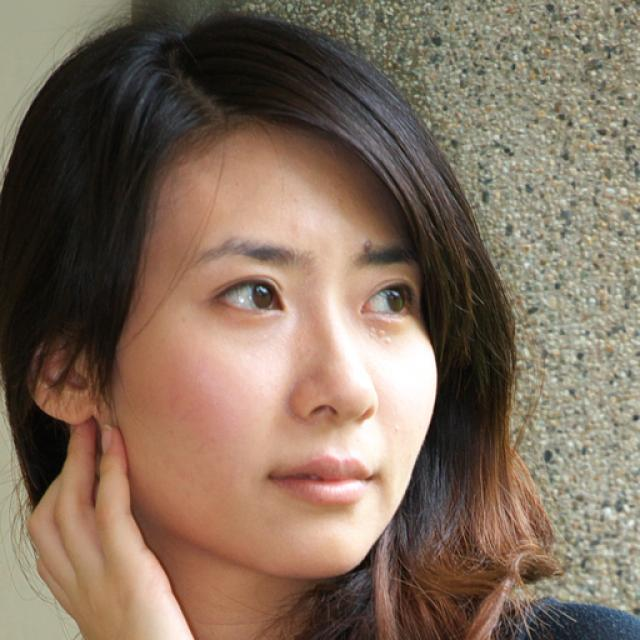neutral: (112, 116, 444, 576)
